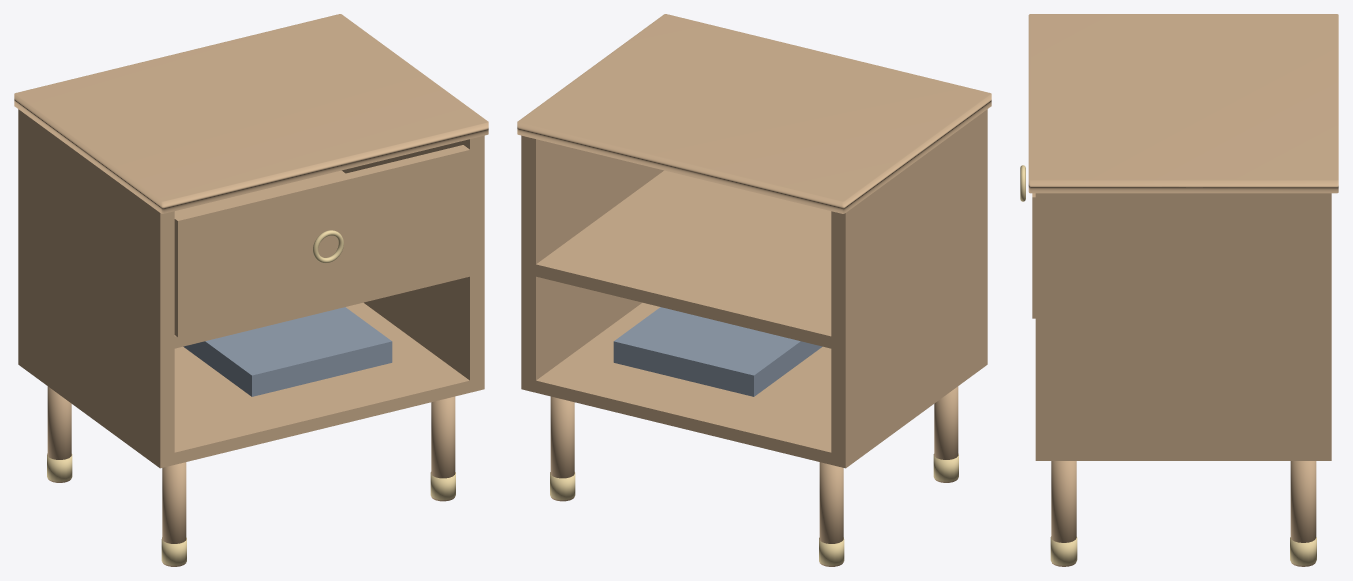
File: nightstand_drawer.glb
3 renders of one model, left to right at view 1: azimuth 30°, elevation 25°; view 2: azimuth 150°, elevation 25°; view 3: azimuth 270°, elevation 25°, orthographic. The views are drawn at different scales.
Parts seen in each view (by area): view 1: Cube.004, Cube, NSDrawerFront, Cube.002, Cube.005, Cube.001, Cube.003, Cylinder.002, Cylinder, Cylinder.004, Cylinder.005, Cylinder.003 (+1 smaller); view 2: Cube.004, Cube, Cube.003, Cube.002, Cube.001, Cube.005, Cylinder.006, Cylinder.004, Cylinder, Cylinder.001, Cylinder.007, Cylinder.005; view 3: Cube.001, Cube.004, Cylinder.006, Cylinder.002, Cylinder.003, Cylinder.007, NSDrawerFront.
Boxes of the visible parts, x1,y1,x2,y2 form: Cube.004: (14,14,488,213); Cube: (18,109,174,468); NSDrawerFront: (174,145,470,337); Cube.002: (171,302,470,465); Cube.005: (183,307,392,396); Cube.001: (342,135,484,392); Cube.003: (174,170,473,348); Cylinder.002: (431,396,455,501); Cylinder: (162,462,186,566); Cylinder.004: (47,386,71,482); Cylinder.005: (47,453,72,481); Cylinder.003: (430,472,455,499); Cube.004: (517,14,991,213); Cube: (831,109,987,468); Cube.003: (536,170,834,348); Cube.002: (536,302,835,465); Cube.001: (521,135,663,392); Cube.005: (613,307,822,396); Cylinder.006: (550,396,574,501); Cylinder.004: (819,462,843,566); Cylinder: (934,386,958,482); Cylinder.001: (933,453,958,481); Cylinder.007: (550,472,575,499); Cylinder.005: (819,537,844,565); Cube.001: (1035,193,1331,460); Cube.004: (1028,14,1338,193); Cylinder.006: (1290,461,1316,566); Cylinder.002: (1051,461,1076,566); Cylinder.003: (1050,536,1077,565); Cylinder.007: (1290,537,1316,565); NSDrawerFront: (1032,193,1035,318).
Size of the model in its own units: 0.56 by 0.62 by 0.452.
